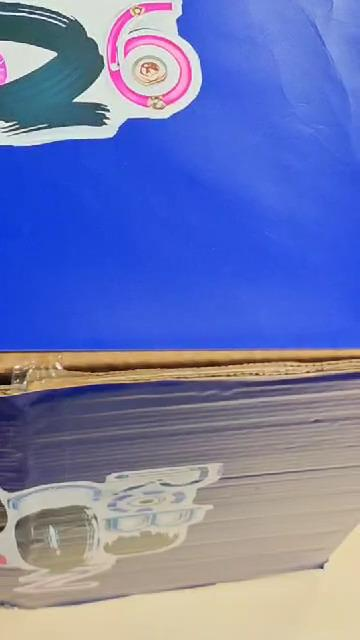B_R1: (0, 0, 346, 169)
